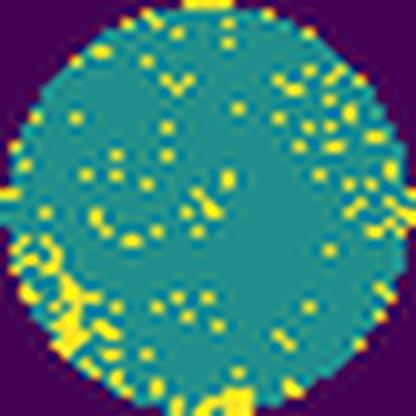Loc: (54, 274, 104, 361), (197, 385, 258, 416)
